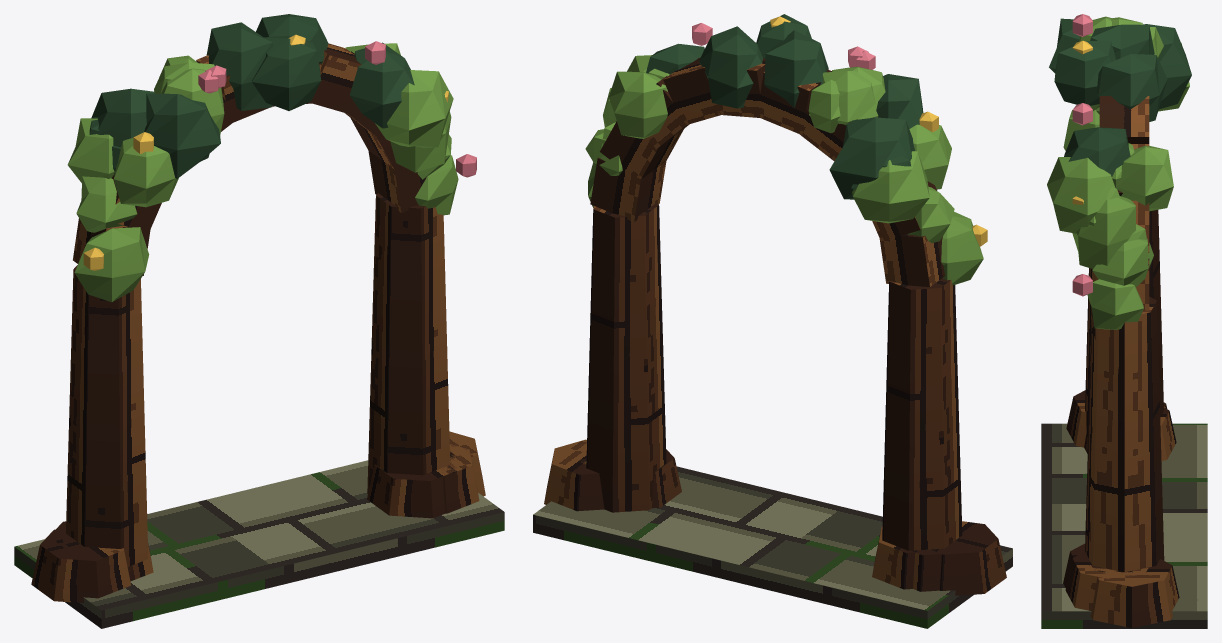
The model's file is vine_arch.glb.
3 views of the same model, side by side, from view 1: azimuth 30°, elevation 25°; view 2: azimuth 150°, elevation 25°; view 3: azimuth 270°, elevation 25° (orthographic). The views are drawn at different scales.
Parts seen in each view (by area): view 1: vine_arch; view 2: vine_arch; view 3: vine_arch.
Part boxes in pixels (x1,y1,x2,y2): vine_arch: [14, 14, 504, 628]; vine_arch: [533, 14, 1012, 628]; vine_arch: [1041, 14, 1207, 628].
Size of the model in its own units: 3.56 by 3.99 by 1.2.
Materials: 3 (2 with a texture image).
